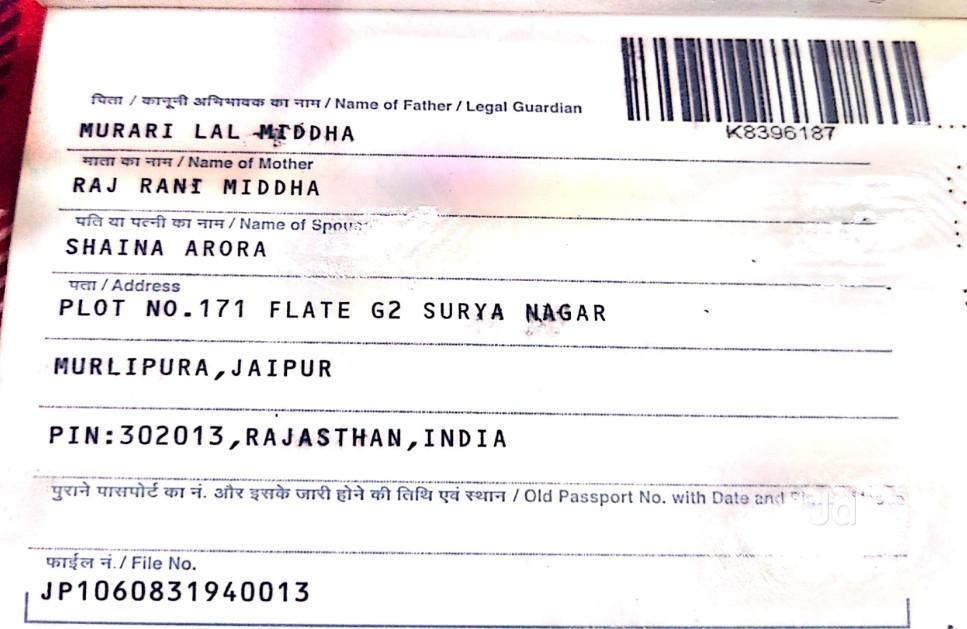File_no: (29, 571, 324, 612)
address: (39, 297, 619, 461)
father_name: (67, 113, 366, 151)
mother_name: (63, 164, 325, 215)
passport_no: (709, 117, 842, 147)
spouse_name: (53, 232, 278, 268)
